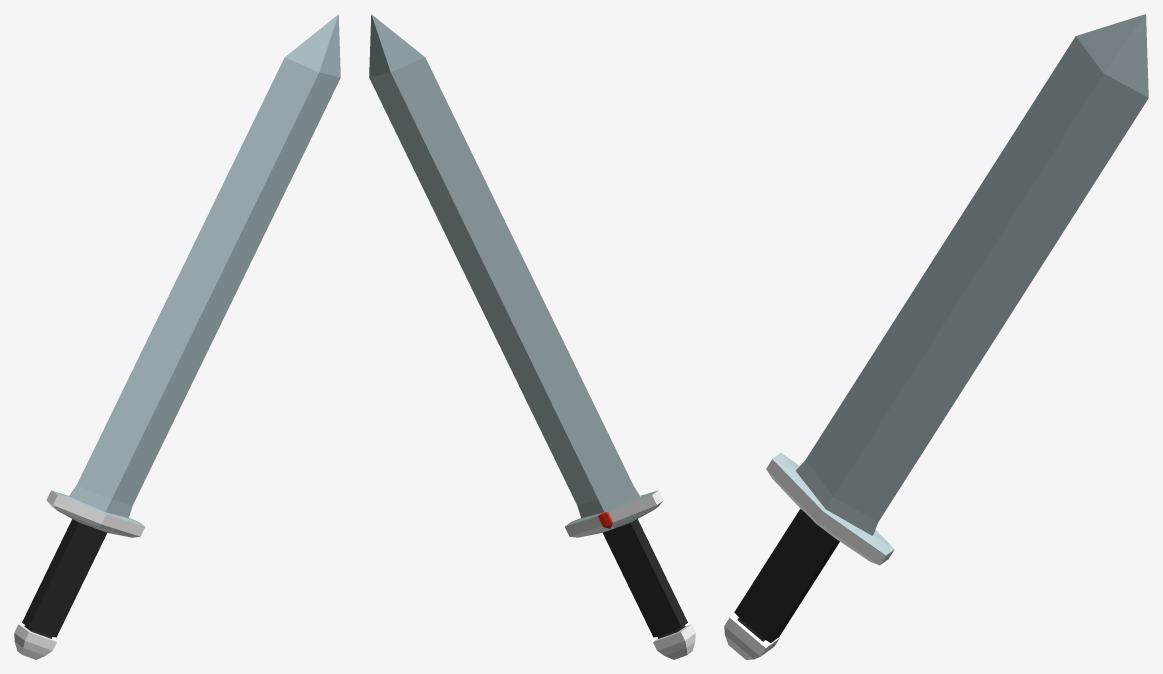
Rendered from sword.fbx.
The picture shows the model from 3 angles, left to right: view 1: azimuth 30°, elevation 25°; view 2: azimuth 150°, elevation 25°; view 3: azimuth 330°, elevation 25°; orthographic projection. The views are drawn at different scales.
Visible parts, largest first — view 1: Cube; view 2: Cube; view 3: Cube.
Boxes of the visible parts, bbox=[...] form: Cube: bbox=[14, 14, 340, 659]; Cube: bbox=[369, 14, 695, 659]; Cube: bbox=[724, 14, 1148, 659].
Bounding box in the file's own units: 116 × 196 × 10.64.
